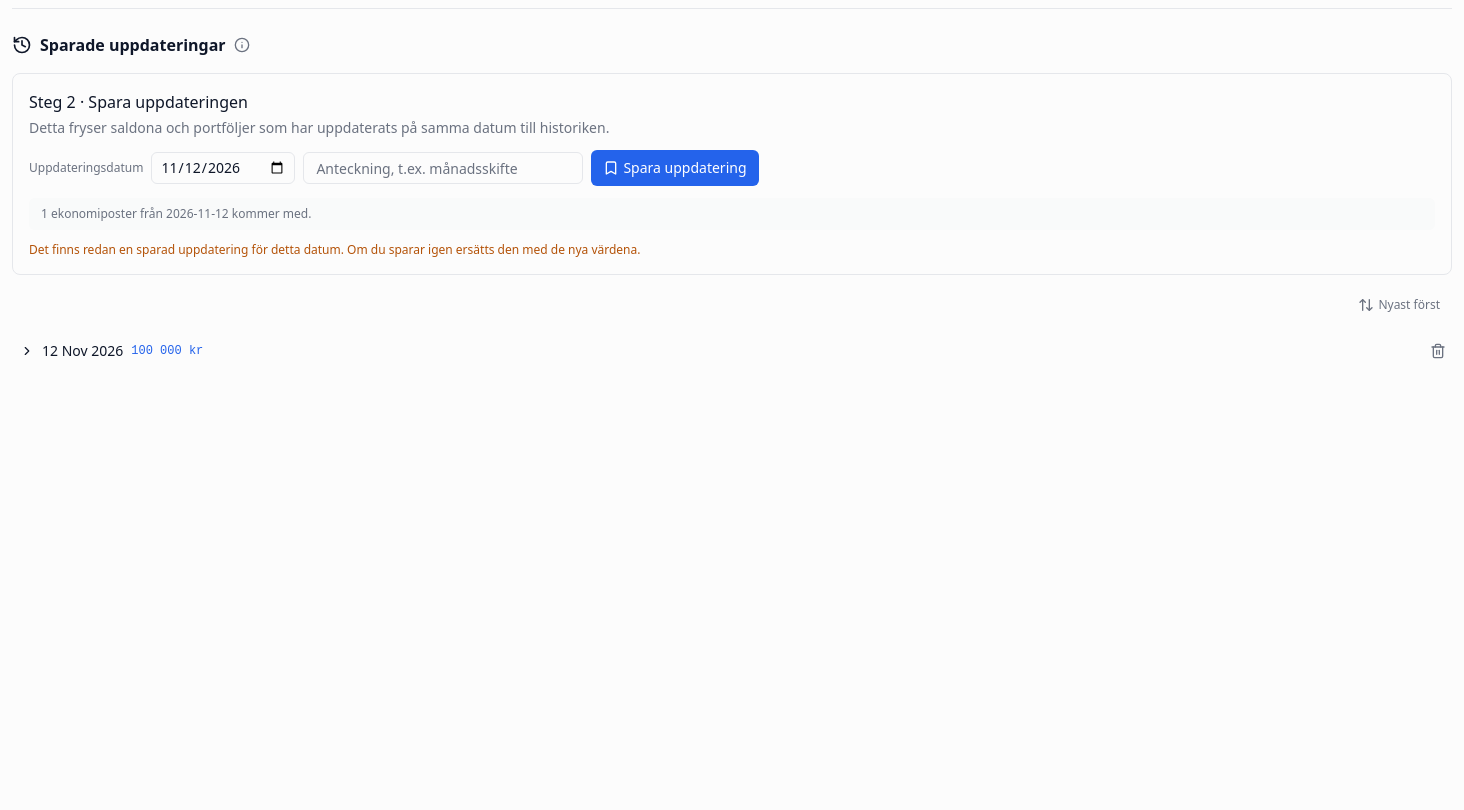
EconomySnapshotHistory › does not display a portfolio in history when its snapshot date differs
This screenshot has width=1464, height=810.
Check: the text "Sparade uppdateringar" is shown, box [12, 34, 250, 56]
Click the button "12 Nov 2026 100 000 kr": (83, 350) [12, 335, 1420, 367]
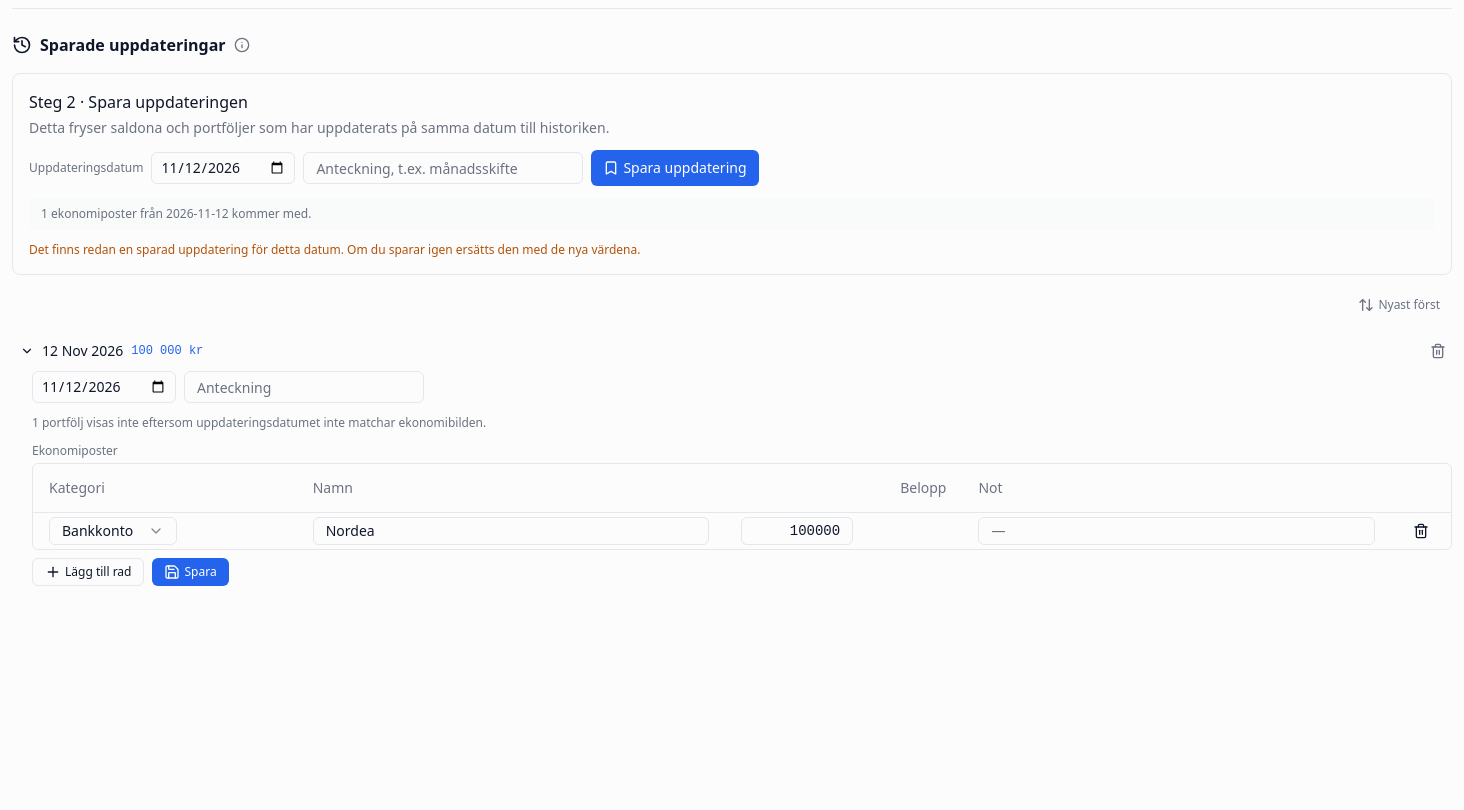
Check: the text "1 portfölj visas inte eftersom uppdateringsdatumet inte matchar ekonomibilden" is shown, box [32, 414, 486, 431]
